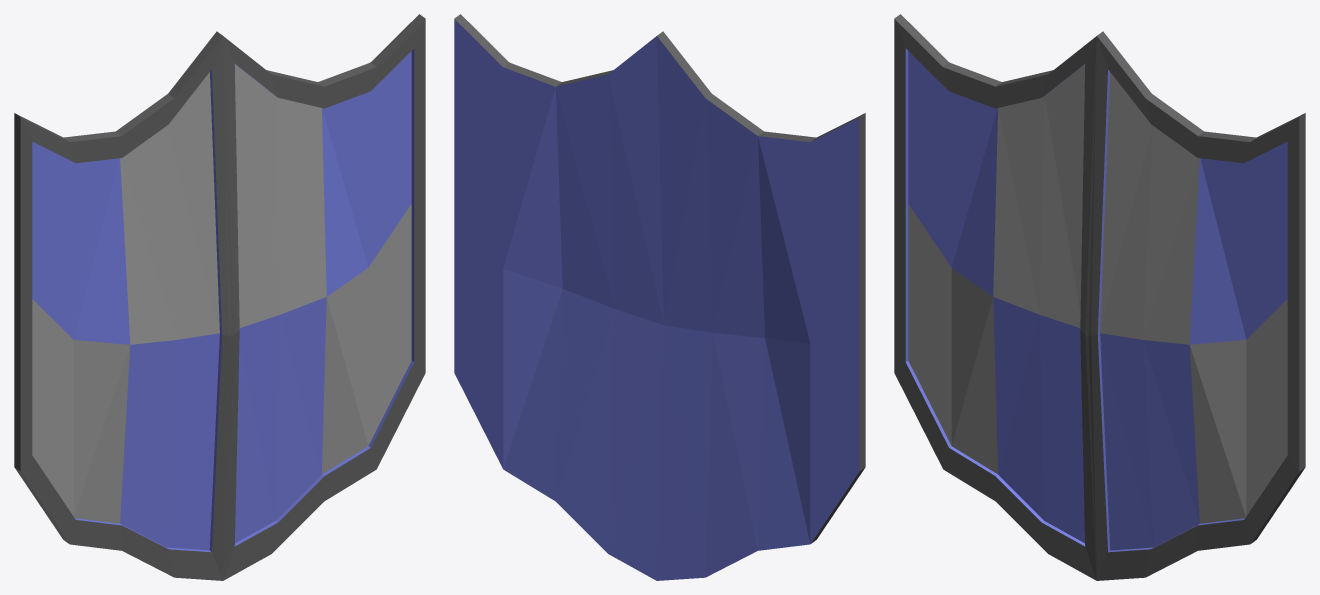
The model's file is shield2.dae.
The picture shows the model from 3 angles, left to right: view 1: azimuth 30°, elevation 25°; view 2: azimuth 150°, elevation 25°; view 3: azimuth 330°, elevation 25°; orthographic projection.
Parts seen in each view (by area): view 1: Cube; view 2: Cube; view 3: Cube.
Boxes of the visible parts, x1=… form: Cube: x1=14, y1=14, x2=425, y2=580; Cube: x1=454, y1=14, x2=865, y2=580; Cube: x1=894, y1=14, x2=1305, y2=580.
Size of the model in its own units: 2 by 0.1274 by 2.57.
